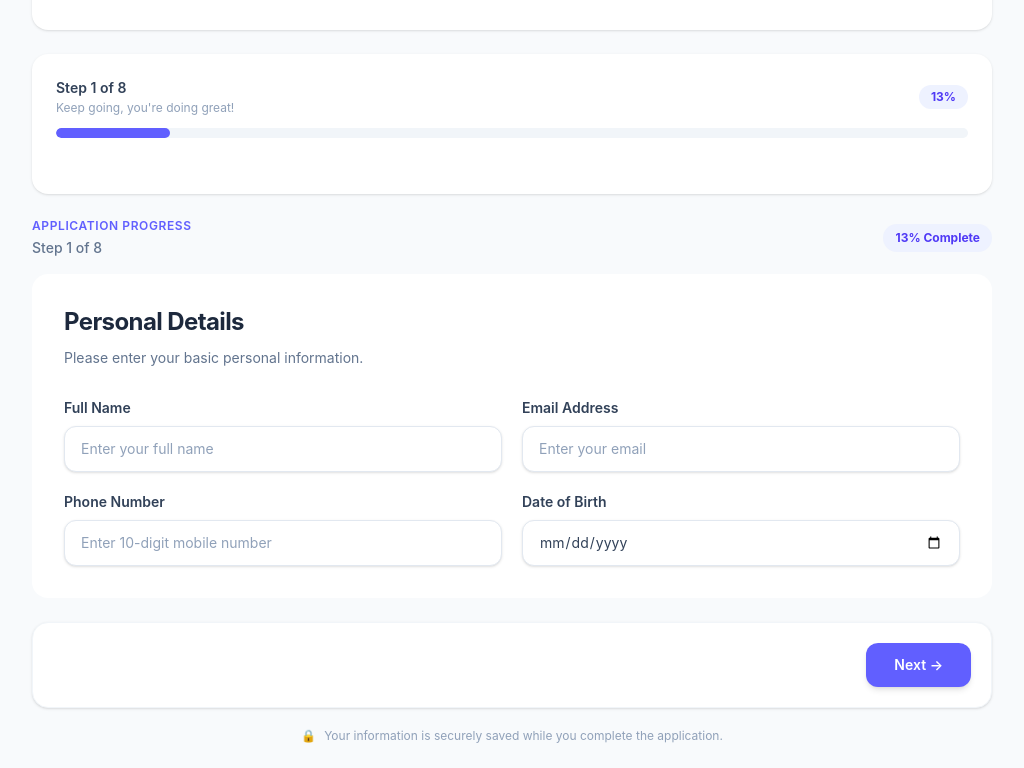
Scenario: Loan Application - Complete Flow › should validate empty personal details
The image size is (1024, 768).
(page scrolled)
What coordinates should you click on to do the following:
click the button "Next →"
I would click on:
 (919, 665)
Its box is [866,643,971,687].
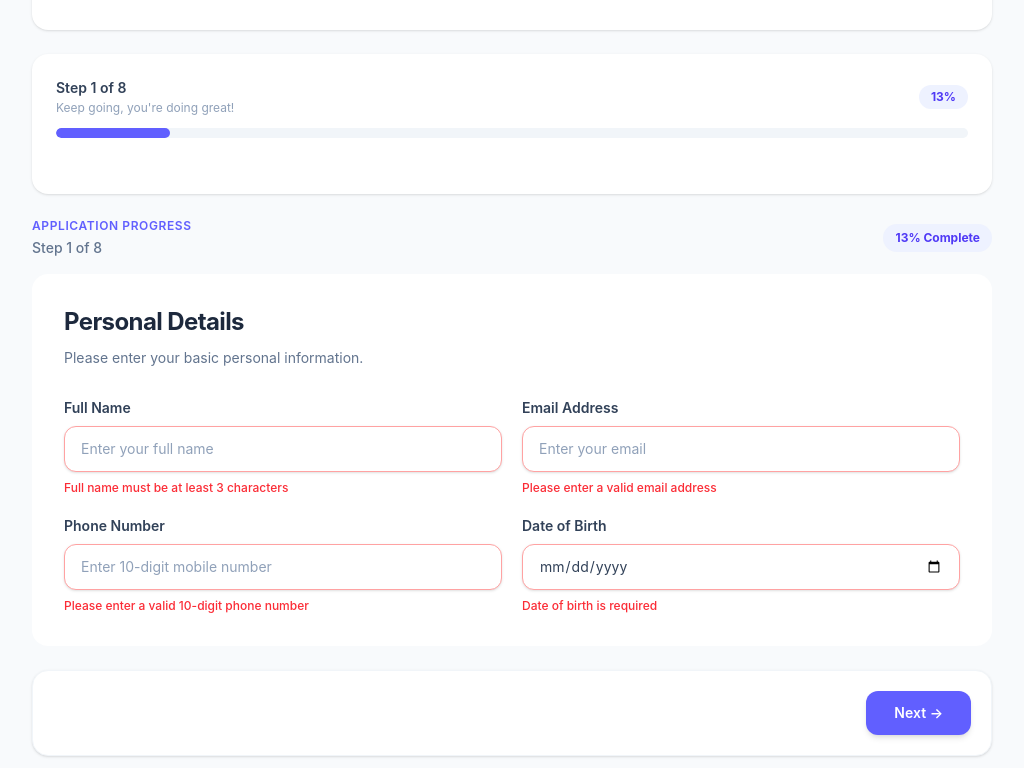
Check: the text "Full name must be at least 3 characters" is shown, box [64,480,288,495]
